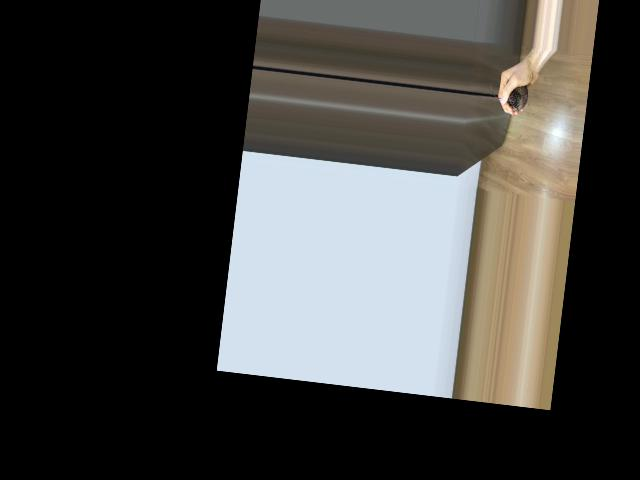beet: (487, 81, 529, 113)
